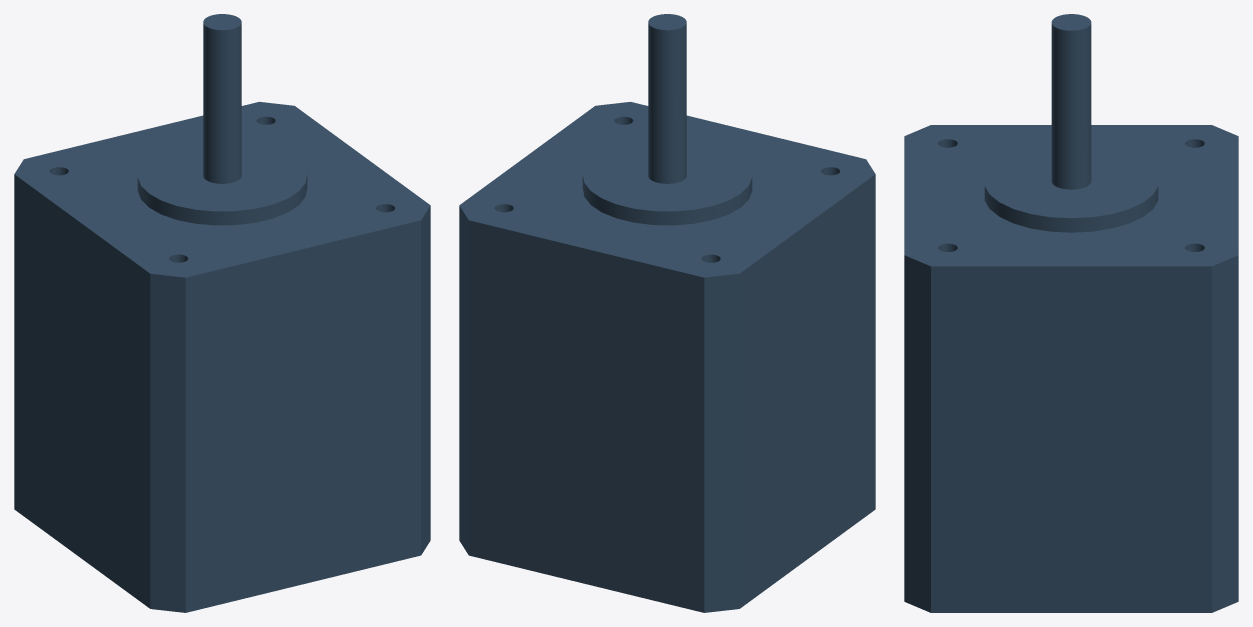
The model's file is motion-generic-nema-stepper.glb.
3 views of the same model, side by side, from view 1: azimuth 30°, elevation 25°; view 2: azimuth 150°, elevation 25°; view 3: azimuth 270°, elevation 25° (orthographic). The views are drawn at different scales.
Size of the model in its own units: 0.042 by 0.072 by 0.042.
